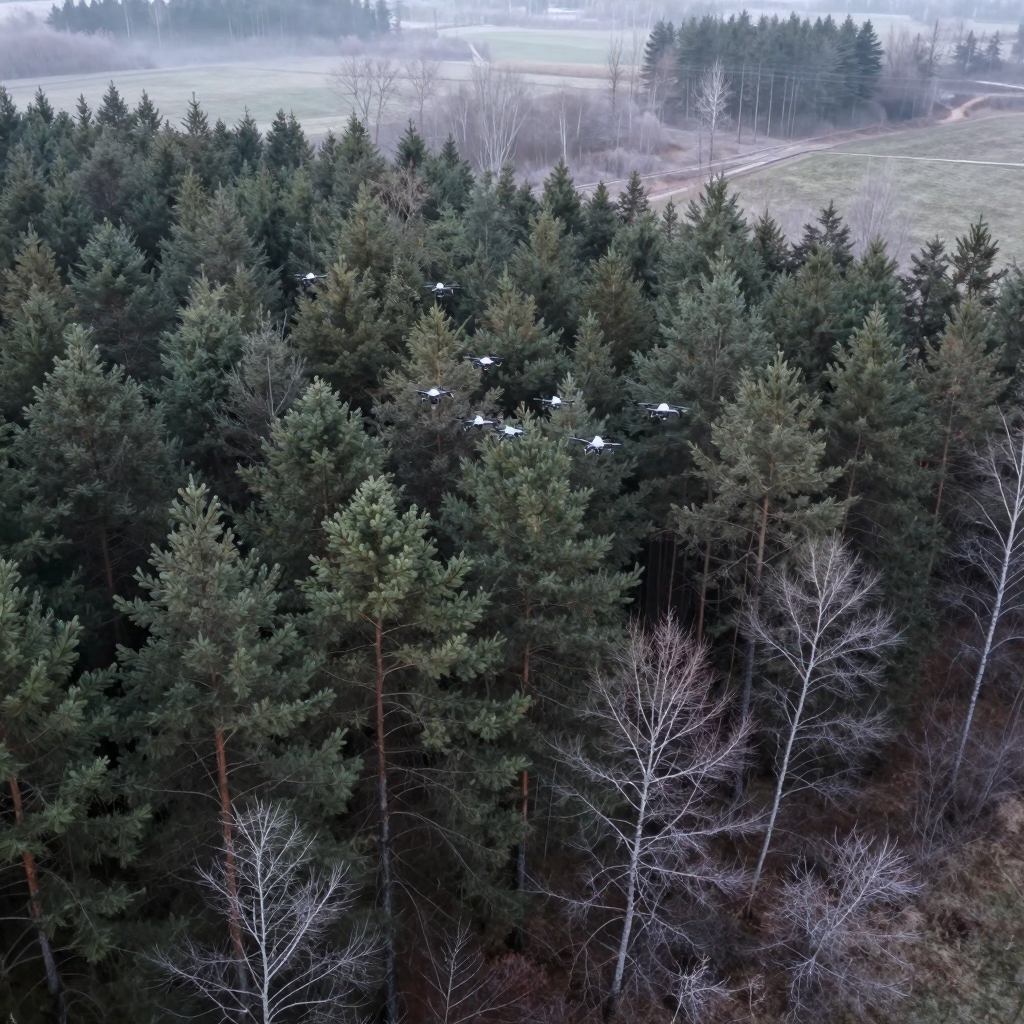drone: (490, 417, 531, 449), (568, 435, 623, 456), (532, 390, 577, 414), (638, 402, 691, 421), (416, 386, 455, 405), (459, 413, 496, 432), (463, 355, 504, 372), (294, 266, 327, 285), (428, 282, 463, 297)
